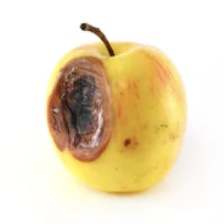apple: (20, 57, 183, 210)
